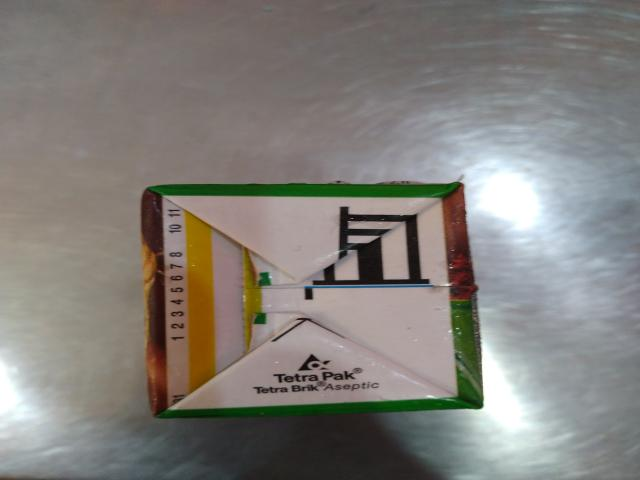drink_box: (119, 163, 506, 432)
